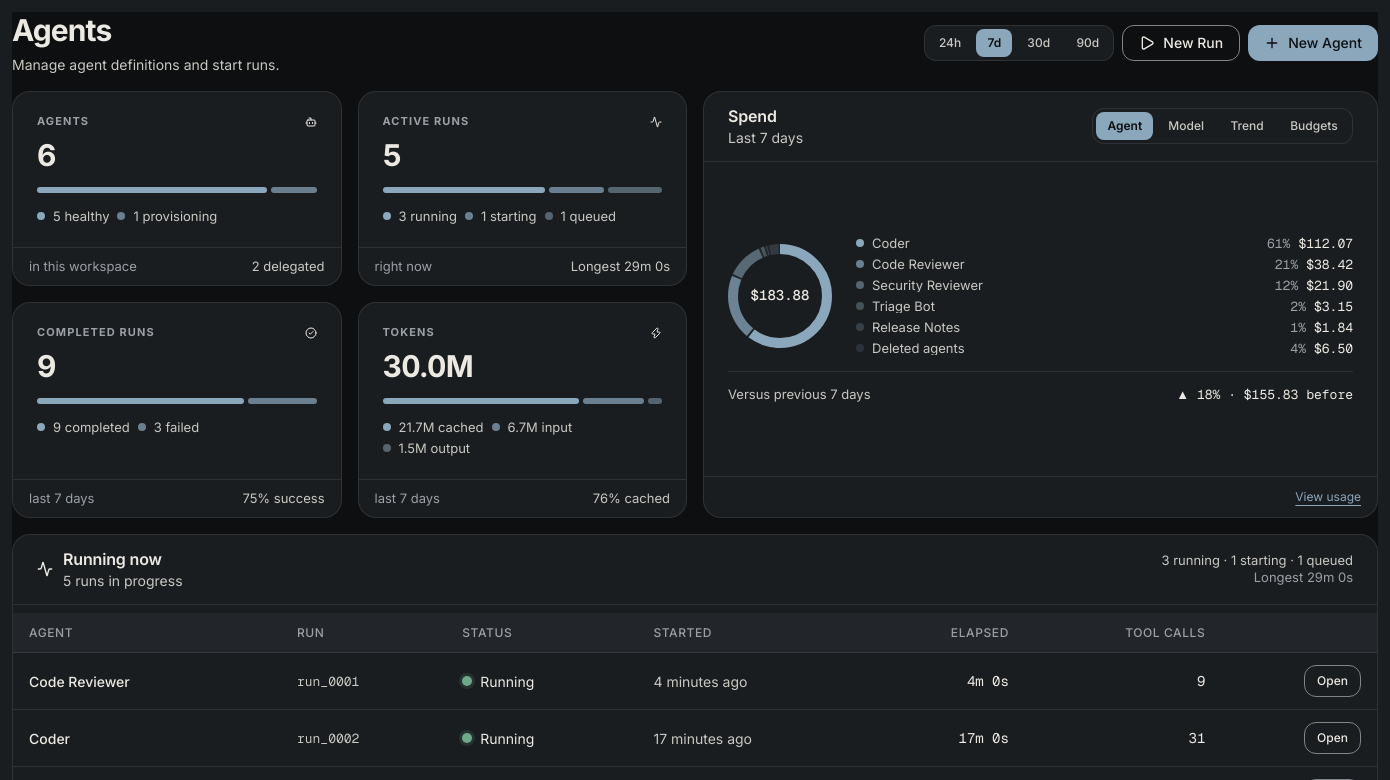
Test: Agents page insights › renders the window it was given without fetching it, then fetches another period when selected
Expected: the text "Last 7 days" is shown, [728,128,803,147]
What coordinates should you click on to do the following:
click the button "30d"
I would click on:
 (1039, 43)
Its box is [1016,29,1061,57].
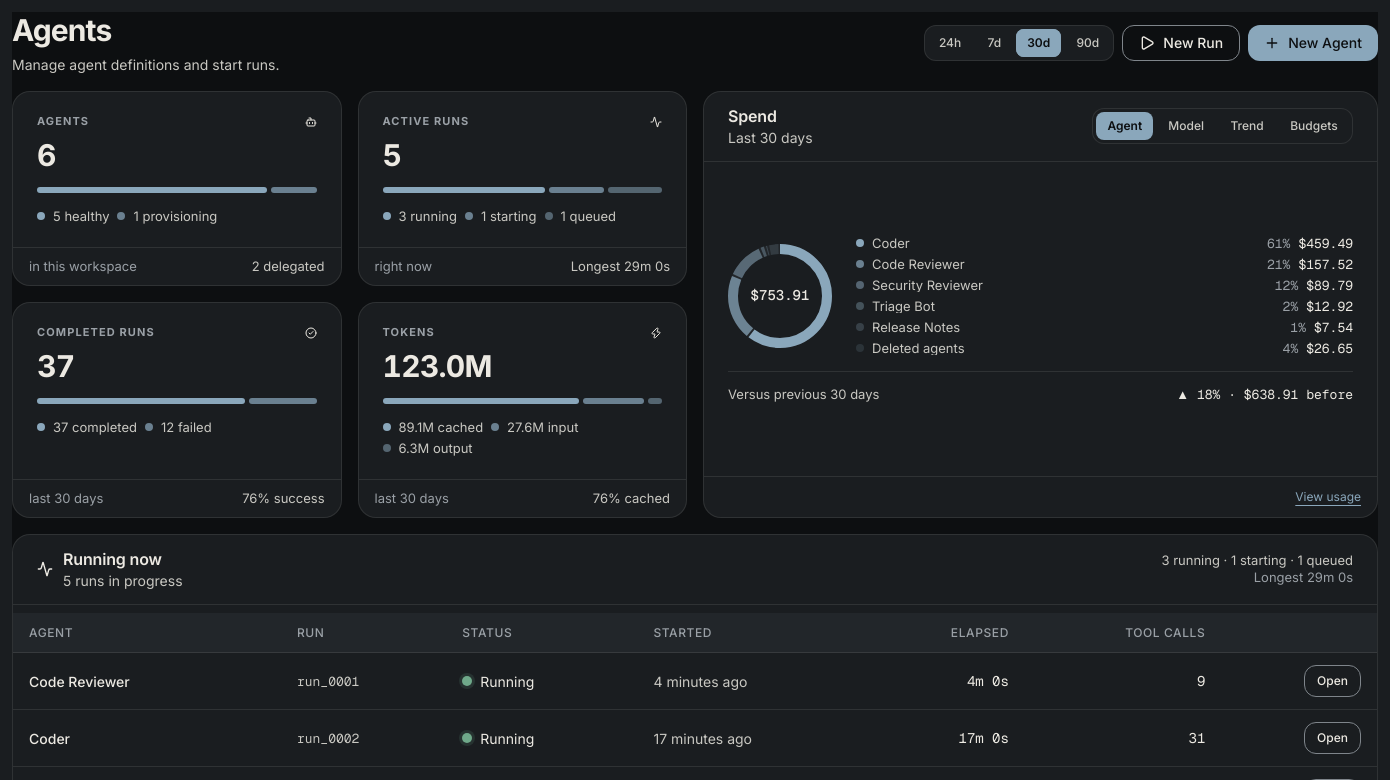
Now the text "Last 30 days" is shown, box [728,128,813,147]
